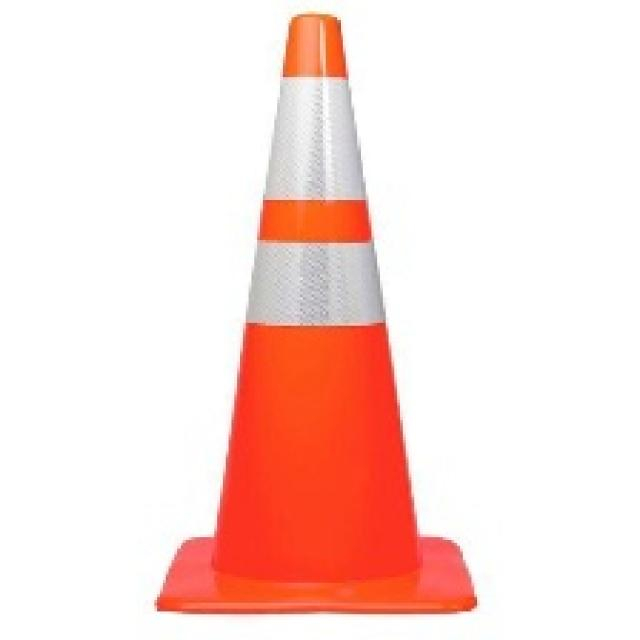cone: (150, 10, 476, 621)
